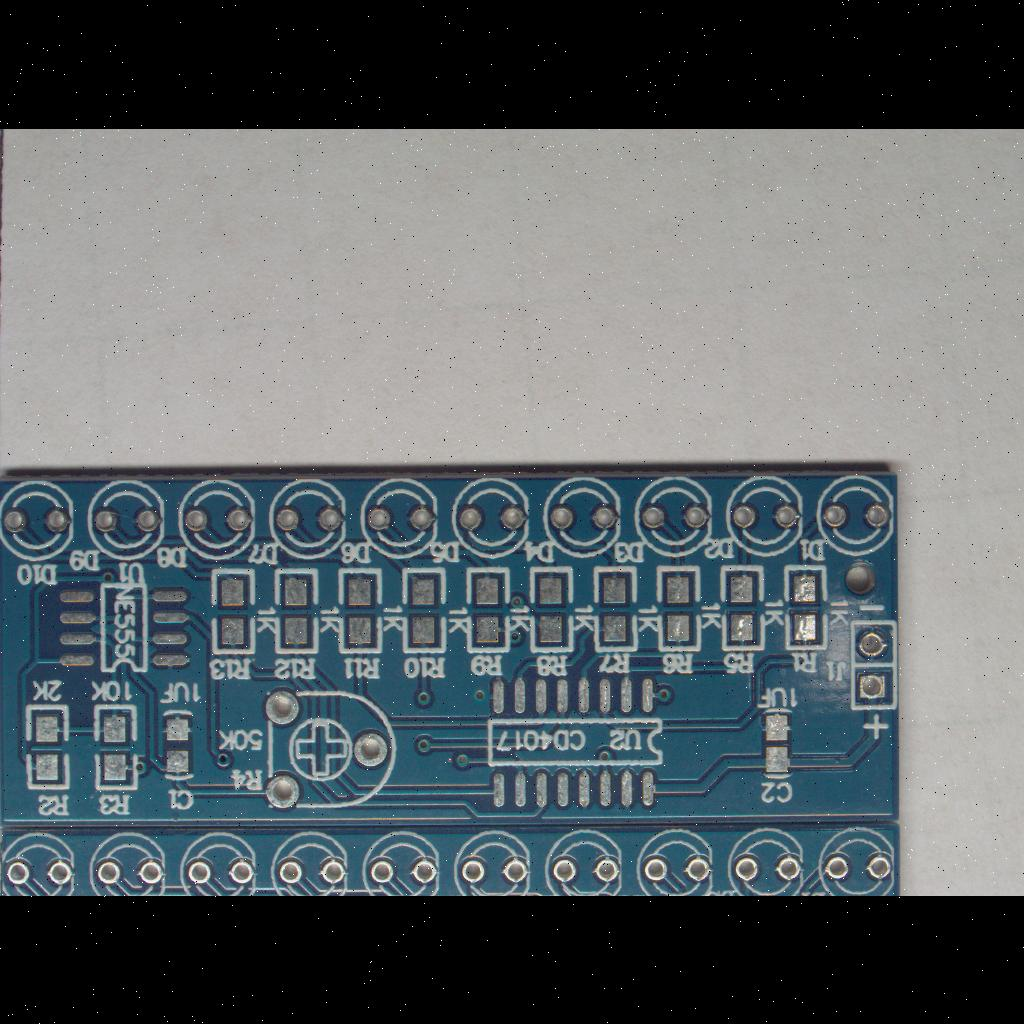NG: (476, 666, 672, 816), (49, 574, 199, 680), (396, 562, 452, 658), (270, 564, 326, 658), (19, 702, 73, 796), (334, 564, 388, 656), (591, 563, 645, 655), (460, 563, 514, 655), (208, 565, 262, 657), (654, 562, 706, 654), (528, 563, 580, 655), (718, 562, 768, 652), (92, 704, 142, 794), (782, 563, 830, 649), (154, 703, 198, 783), (758, 704, 798, 782)
